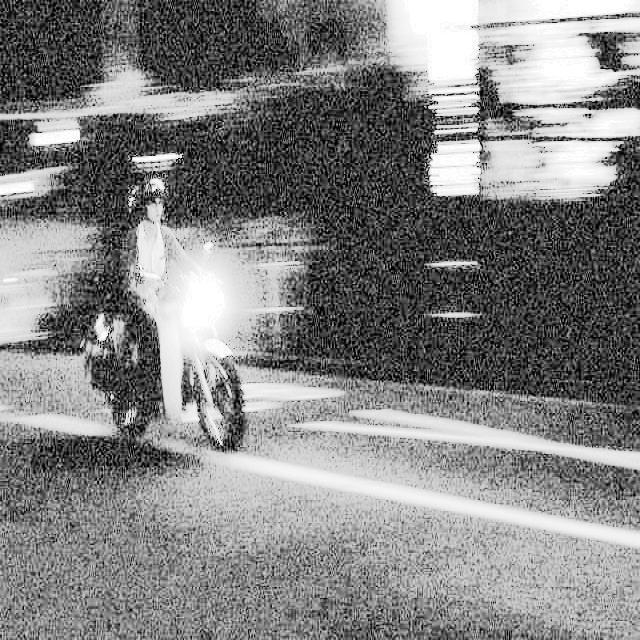Motorcycle: (63, 254, 277, 500)
